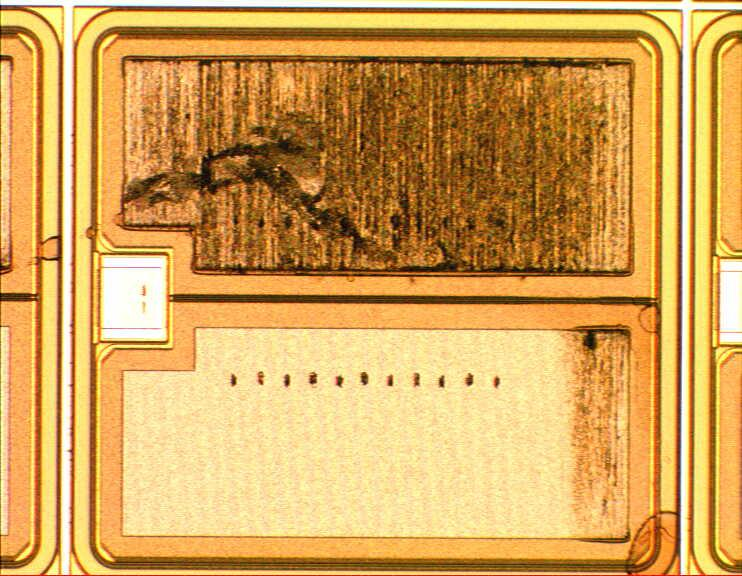SEZ BURNT: (123, 56, 635, 543)
